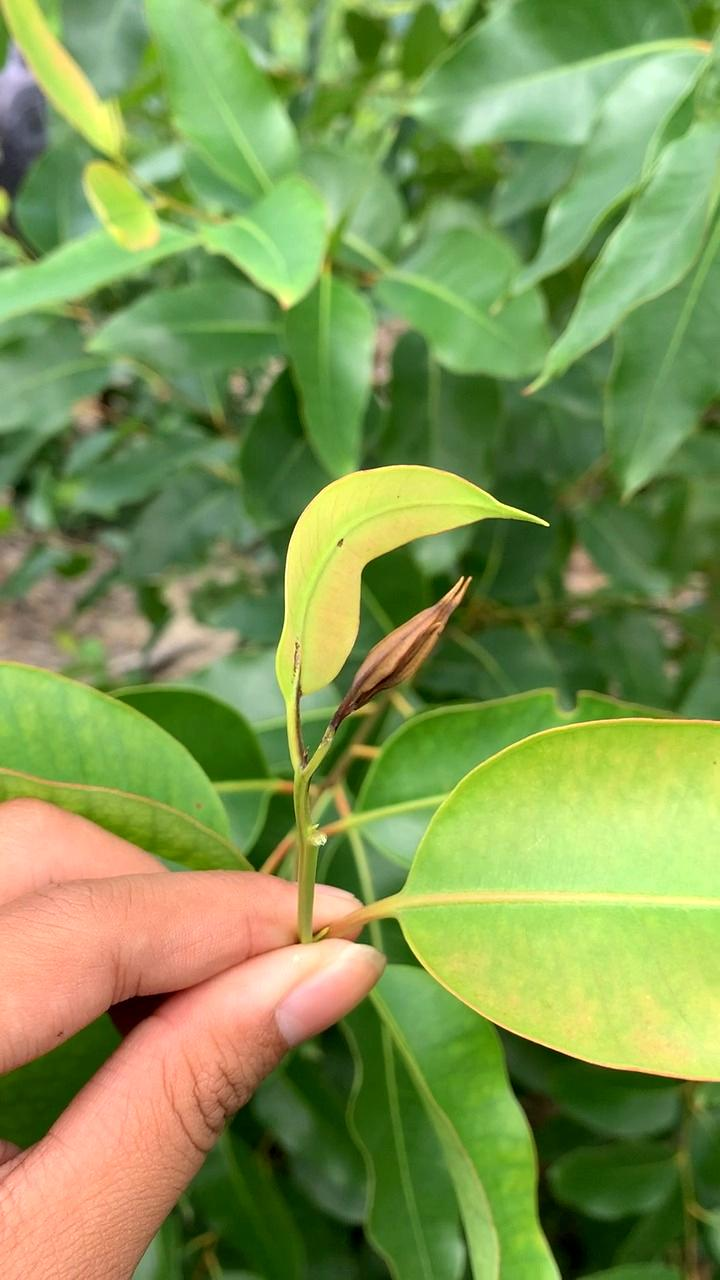Helopeltis-Withered Sprout: (333, 578, 473, 725)
